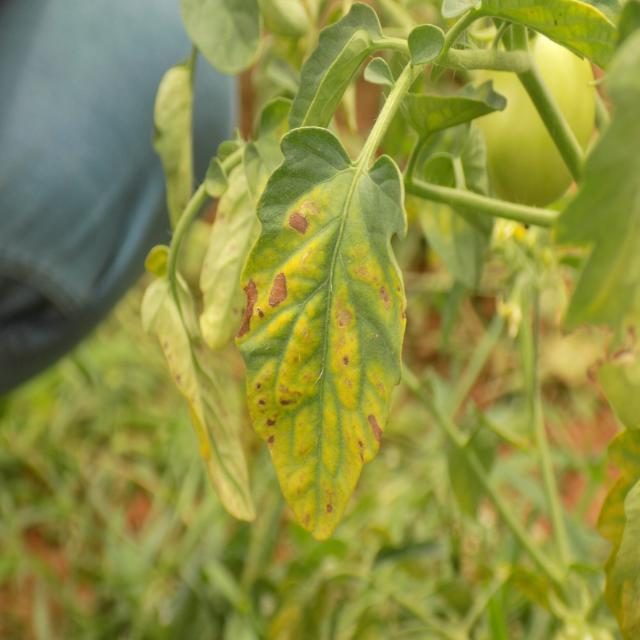tomato_early blight: (236, 124, 407, 545), (137, 257, 253, 519), (196, 153, 282, 347)
